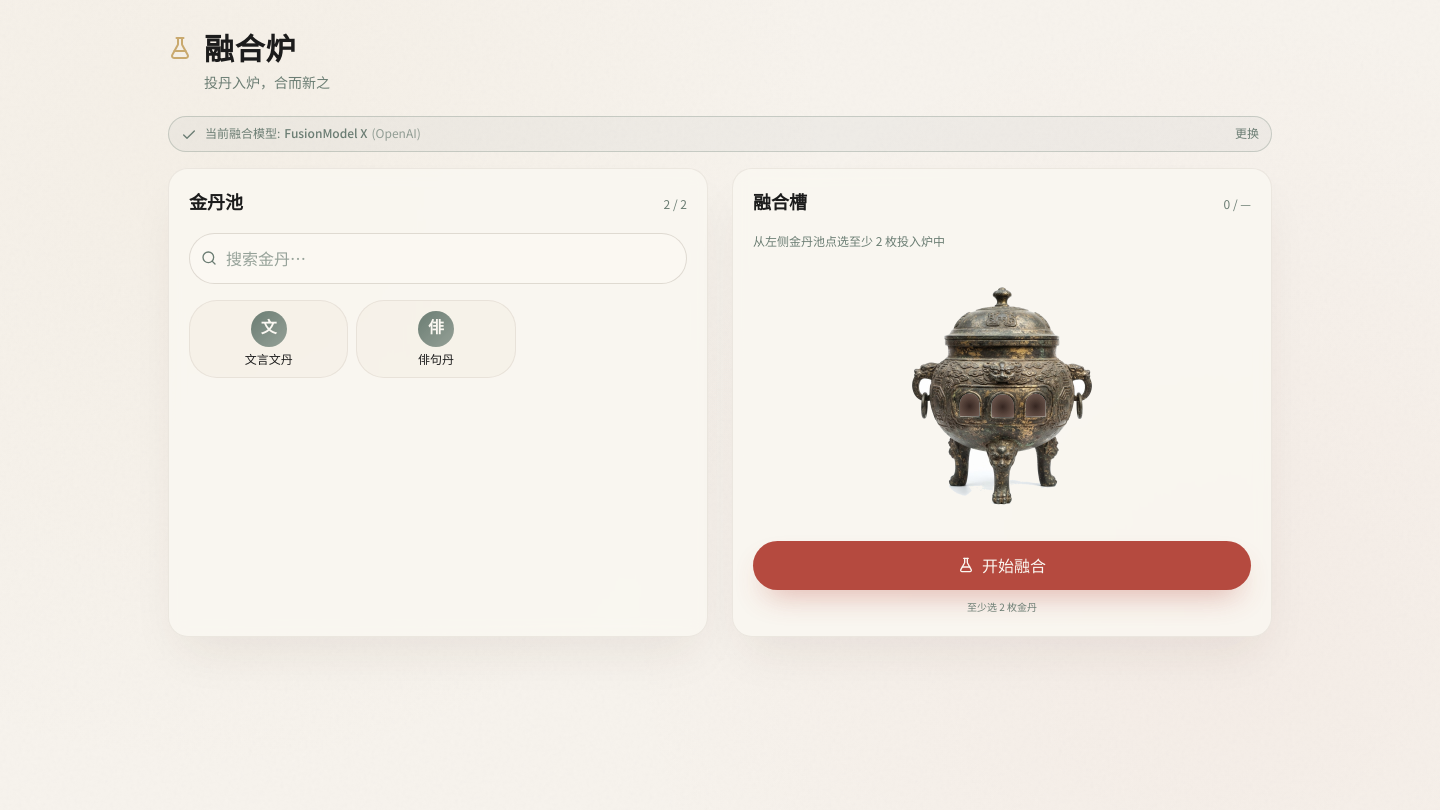
Scenario: FusionPage 融合炉（两阶段：预览不消耗 → 确认原子消耗） › 开始融合 = 预览：只调 previewFusion 不消耗材料，弹出预览
This screenshot has width=1440, height=810.
Click the button "文 文言文丹".
click(269, 339)  # box [189,300,348,378]
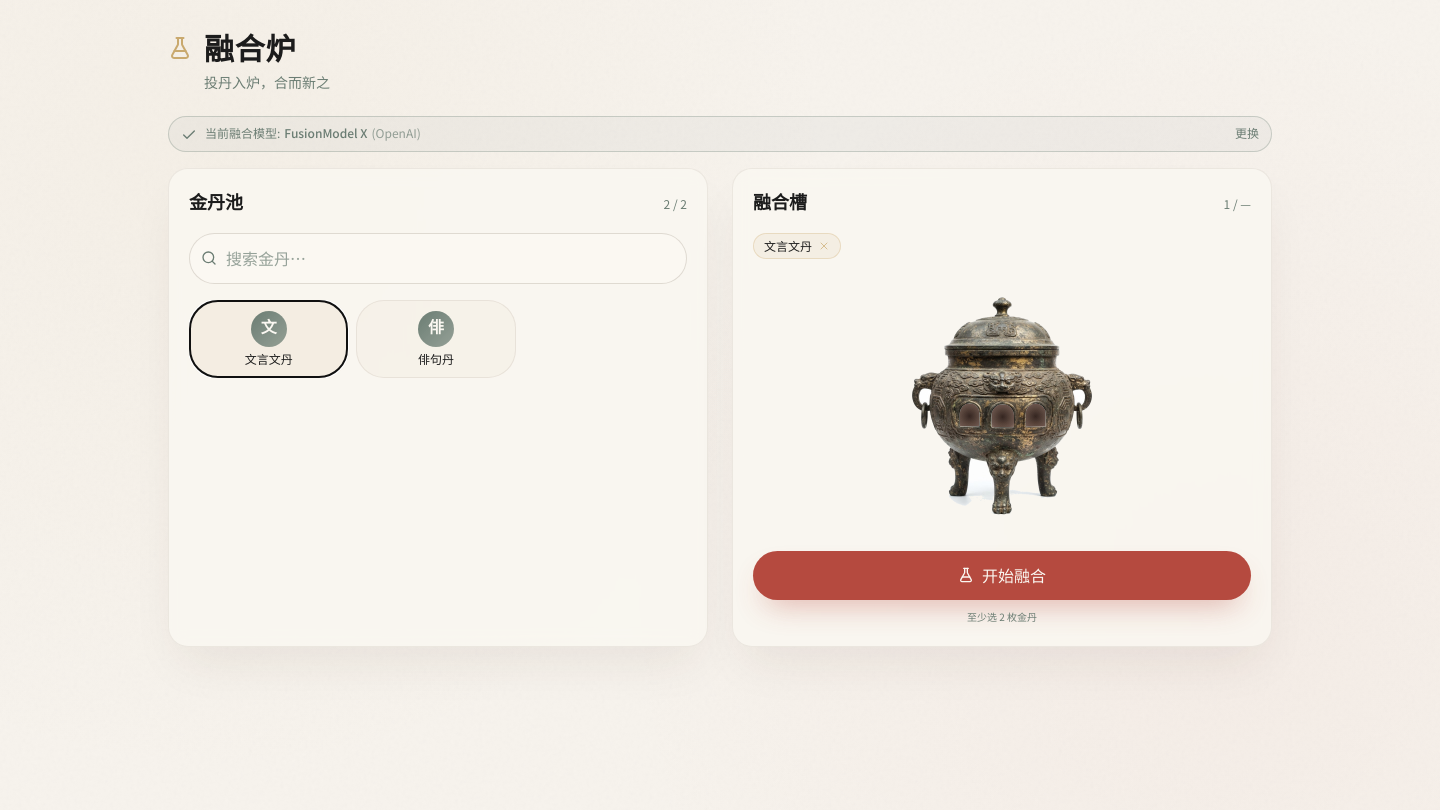
Click the button "俳 俳句丹".
click(436, 339)  # box [356,300,516,378]
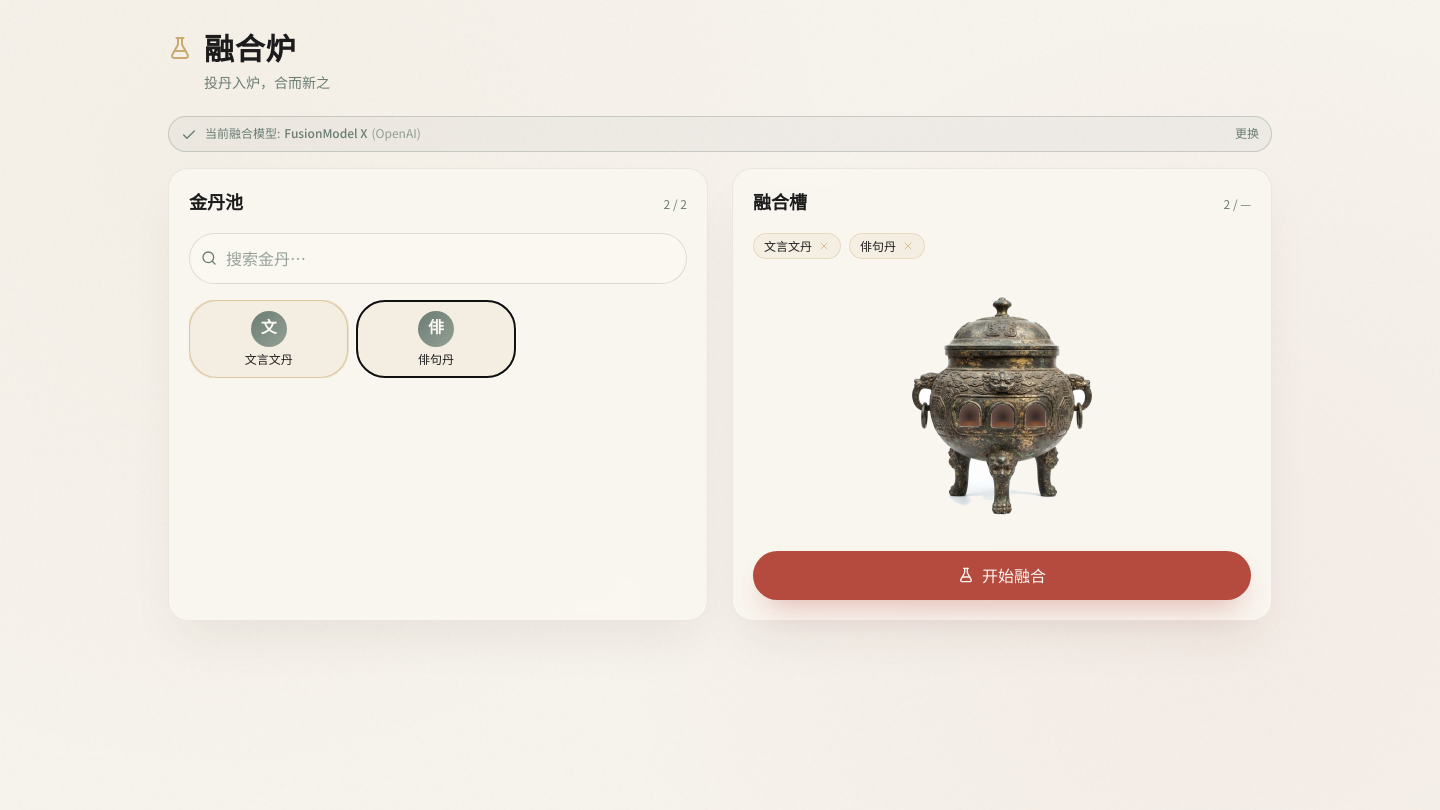
Click the button "开始融合".
click(1002, 575)  # box [753,551,1251,600]
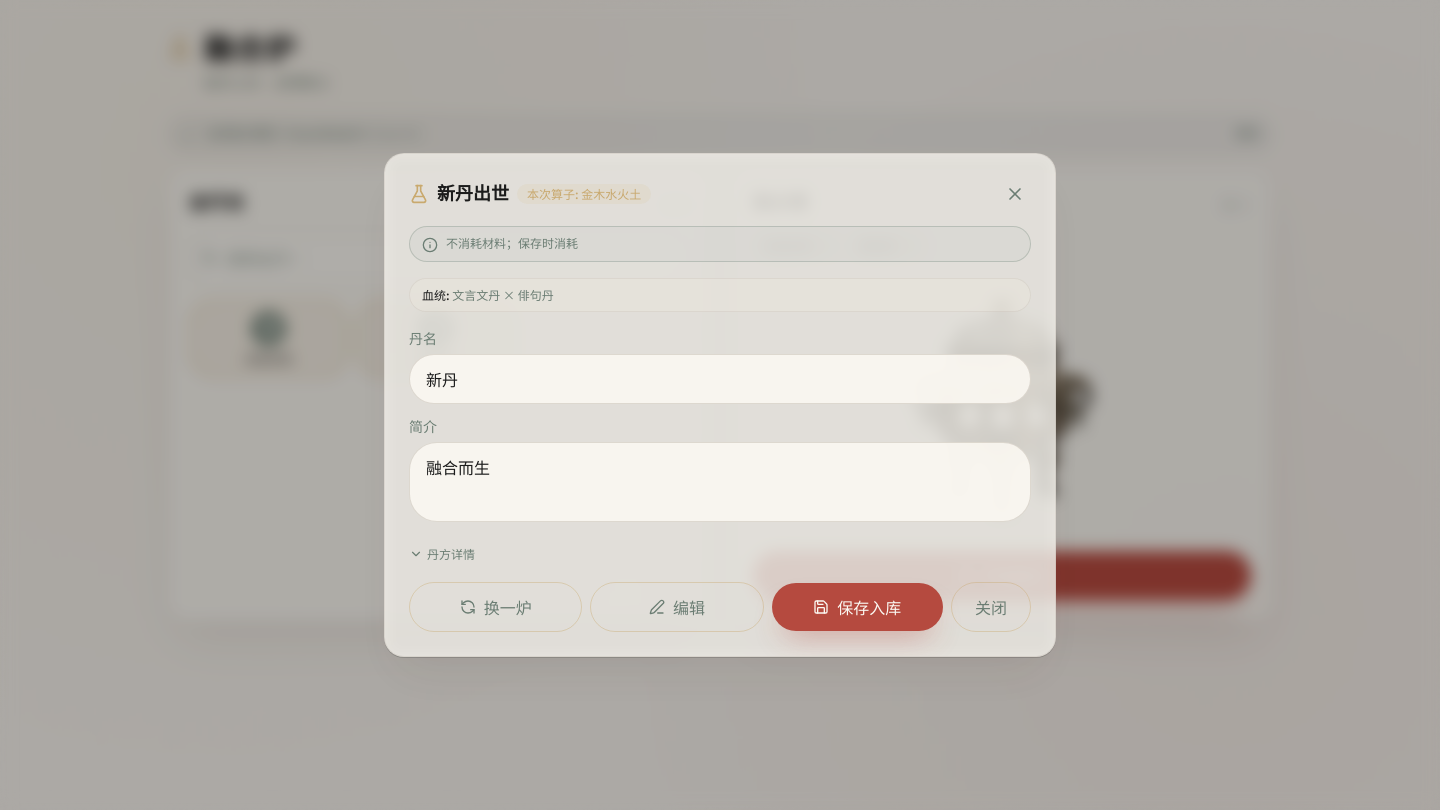
Result: the text "不消耗材料；保存时消耗" is shown at [446,234,578,250]
